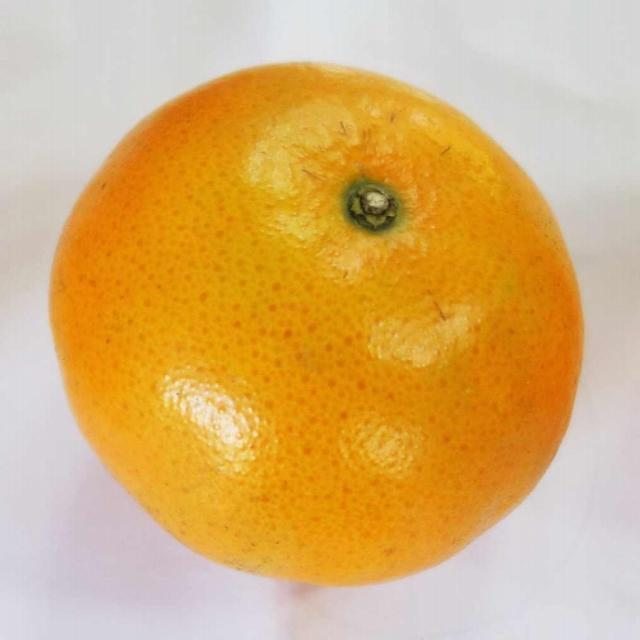Orange: (52, 64, 590, 587)
